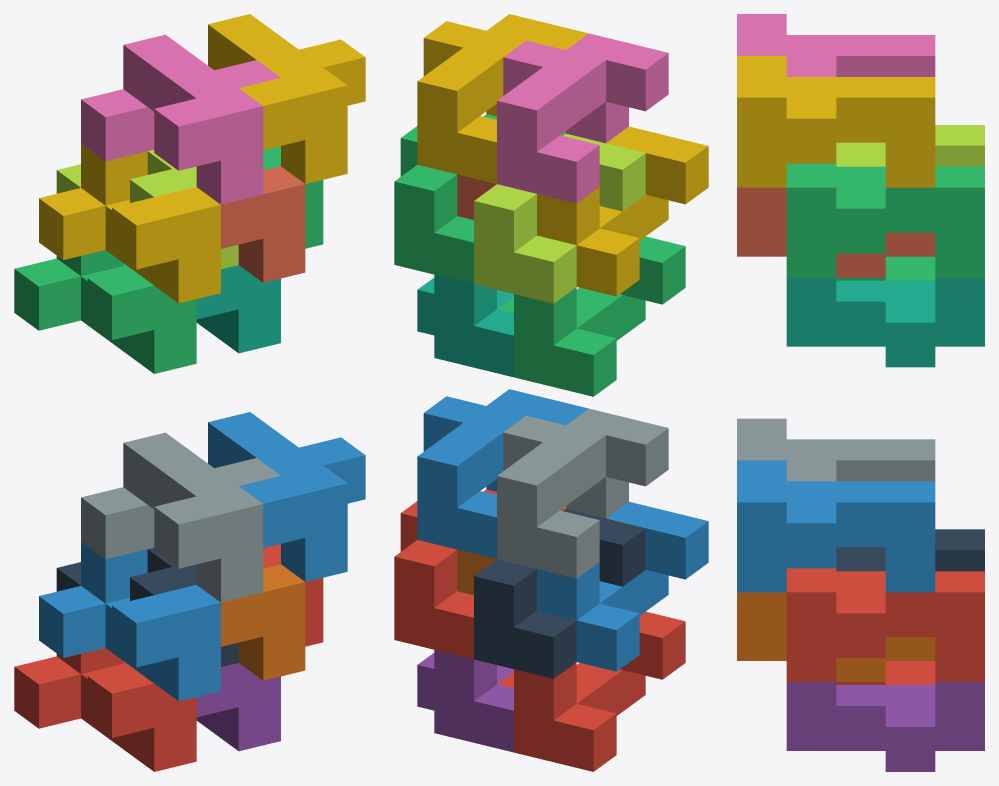
The model's file is tiling.obj.
The picture shows the model from 3 angles, left to right: view 1: azimuth 30°, elevation 25°; view 2: azimuth 150°, elevation 25°; view 3: azimuth 270°, elevation 25°; orthographic projection. The views are drawn at different scales.
Parts seen in each view (by area): view 1: copy_2_domain_2, copy_2_domain_4, copy_1_domain_2, copy_1_domain_4, copy_2_domain_8, copy_2_domain_6, copy_1_domain_1, copy_1_domain_3, copy_1_domain_6, copy_1_domain_8, copy_1_domain_5, copy_1_domain_7 (+4 smaller); view 2: copy_2_domain_4, copy_2_domain_2, copy_2_domain_6, copy_2_domain_8, copy_1_domain_3, copy_1_domain_1, copy_1_domain_2, copy_1_domain_4, copy_2_domain_1, copy_2_domain_3, copy_2_domain_5, copy_2_domain_7 (+4 smaller); view 3: copy_2_domain_6, copy_2_domain_8, copy_2_domain_7, copy_2_domain_5, copy_1_domain_7, copy_1_domain_5, copy_2_domain_2, copy_2_domain_4, copy_1_domain_8, copy_1_domain_6, copy_2_domain_1, copy_2_domain_3 (+2 smaller).
Part boxes in pixels (x1=…): copy_2_domain_2: x1=81, y1=432, x2=280, y2=602; copy_2_domain_4: x1=81, y1=34, x2=280, y2=204; copy_1_domain_2: x1=39, y1=542, x2=220, y2=701; copy_1_domain_4: x1=39, y1=144, x2=220, y2=303; copy_2_domain_8: x1=208, y1=14, x2=365, y2=183; copy_2_domain_6: x1=208, y1=412, x2=365, y2=581; copy_1_domain_1: x1=14, y1=648, x2=196, y2=771; copy_1_domain_3: x1=14, y1=250, x2=196, y2=373; copy_1_domain_6: x1=221, y1=564, x2=305, y2=680; copy_1_domain_8: x1=221, y1=166, x2=305, y2=282; copy_1_domain_5: x1=123, y1=661, x2=280, y2=751; copy_1_domain_7: x1=123, y1=263, x2=280, y2=353; copy_2_domain_4: x1=497, y1=33, x2=668, y2=203; copy_2_domain_2: x1=497, y1=408, x2=668, y2=578; copy_2_domain_6: x1=417, y1=389, x2=588, y2=558; copy_2_domain_8: x1=417, y1=14, x2=588, y2=183; copy_1_domain_3: x1=497, y1=236, x2=685, y2=396; copy_1_domain_1: x1=497, y1=611, x2=685, y2=771; copy_1_domain_2: x1=537, y1=501, x2=708, y2=671; copy_1_domain_4: x1=537, y1=126, x2=708, y2=296; copy_2_domain_1: x1=474, y1=509, x2=645, y2=678; copy_2_domain_3: x1=474, y1=133, x2=645, y2=303; copy_2_domain_5: x1=394, y1=489, x2=565, y2=659; copy_2_domain_7: x1=394, y1=114, x2=565, y2=284; copy_2_domain_6: x1=737, y1=460, x2=935, y2=592; copy_2_domain_8: x1=737, y1=56, x2=935, y2=187; copy_2_domain_7: x1=786, y1=163, x2=984, y2=277; copy_2_domain_5: x1=786, y1=568, x2=984, y2=681; copy_1_domain_7: x1=786, y1=277, x2=984, y2=367; copy_1_domain_5: x1=786, y1=682, x2=984, y2=771; copy_2_domain_2: x1=737, y1=418, x2=935, y2=481; copy_2_domain_4: x1=737, y1=14, x2=935, y2=76; copy_1_domain_8: x1=737, y1=187, x2=935, y2=277; copy_1_domain_6: x1=737, y1=592, x2=935, y2=681; copy_2_domain_1: x1=836, y1=529, x2=984, y2=571; copy_2_domain_3: x1=836, y1=125, x2=984, y2=166.
Size of the model in its own units: 6 by 15 by 5.
